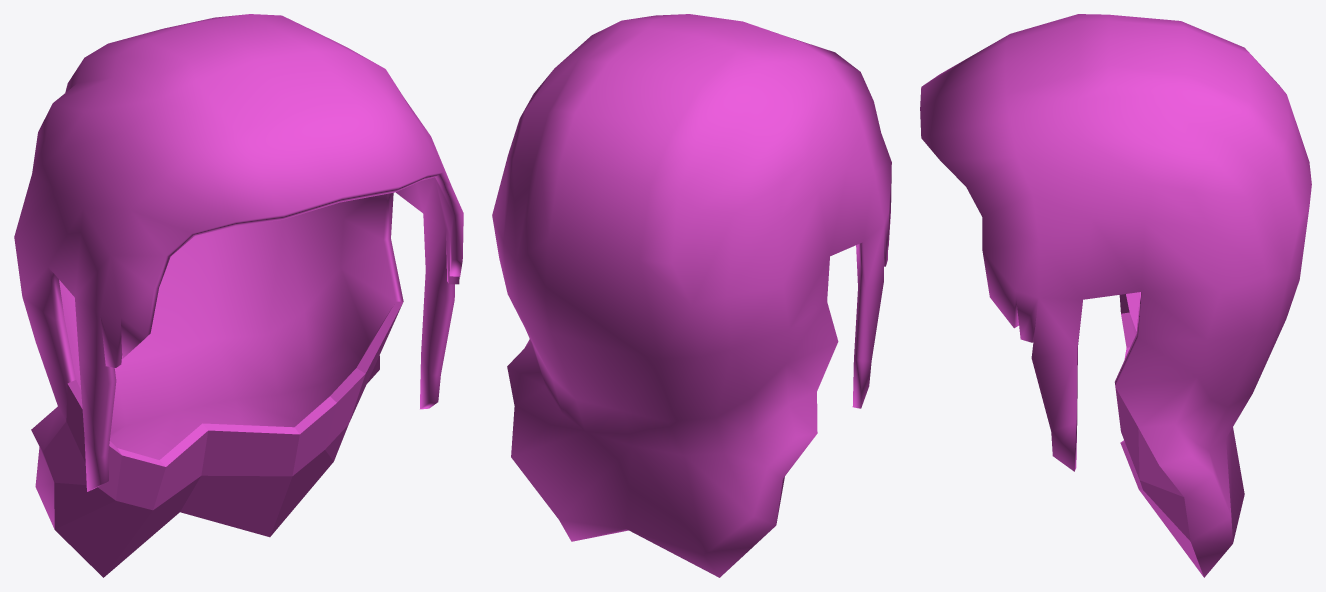
The model's file is character hair 07.fbx.
The picture shows the model from 3 angles, left to right: view 1: azimuth 30°, elevation 25°; view 2: azimuth 150°, elevation 25°; view 3: azimuth 270°, elevation 25°; orthographic projection. The views are drawn at different scales.
Visible parts, largest first — view 1: hair07; view 2: hair07; view 3: hair07.
Part boxes in pixels (bbox=[...]): hair07: bbox=[14, 14, 463, 577]; hair07: bbox=[492, 14, 891, 577]; hair07: bbox=[920, 14, 1311, 577].
Bounding box in the file's own units: 0.3842 × 0.567 × 0.4015.
